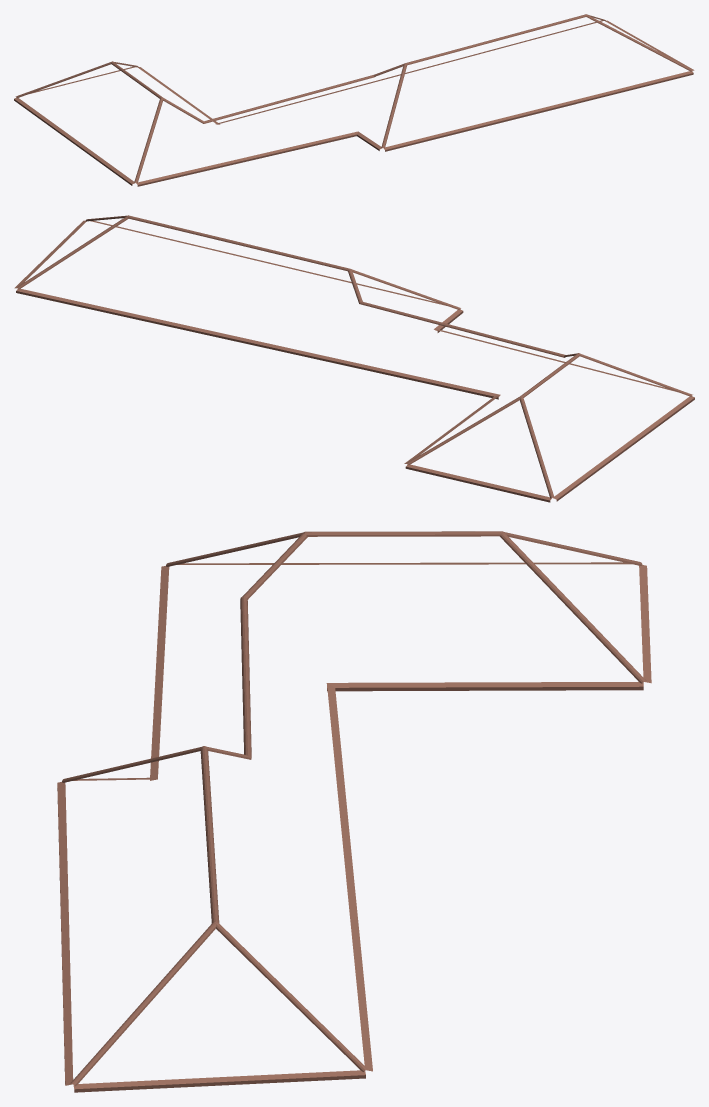
3 renders of one model, top to bottom at view 1: azimuth 30°, elevation 25°; view 2: azimuth 150°, elevation 25°; view 3: azimuth 270°, elevation 25°, orthographic. The views are drawn at different scales.
Visible parts, largest first — view 1: detail; view 2: detail; view 3: detail.
Boxes of the visible parts, x1,y1,x2,y2 form: detail: (14, 14, 694, 186); detail: (14, 215, 694, 502); detail: (57, 531, 651, 1092).
Bounding box in the file's own units: 49.49 × 4.49 × 23.59.
